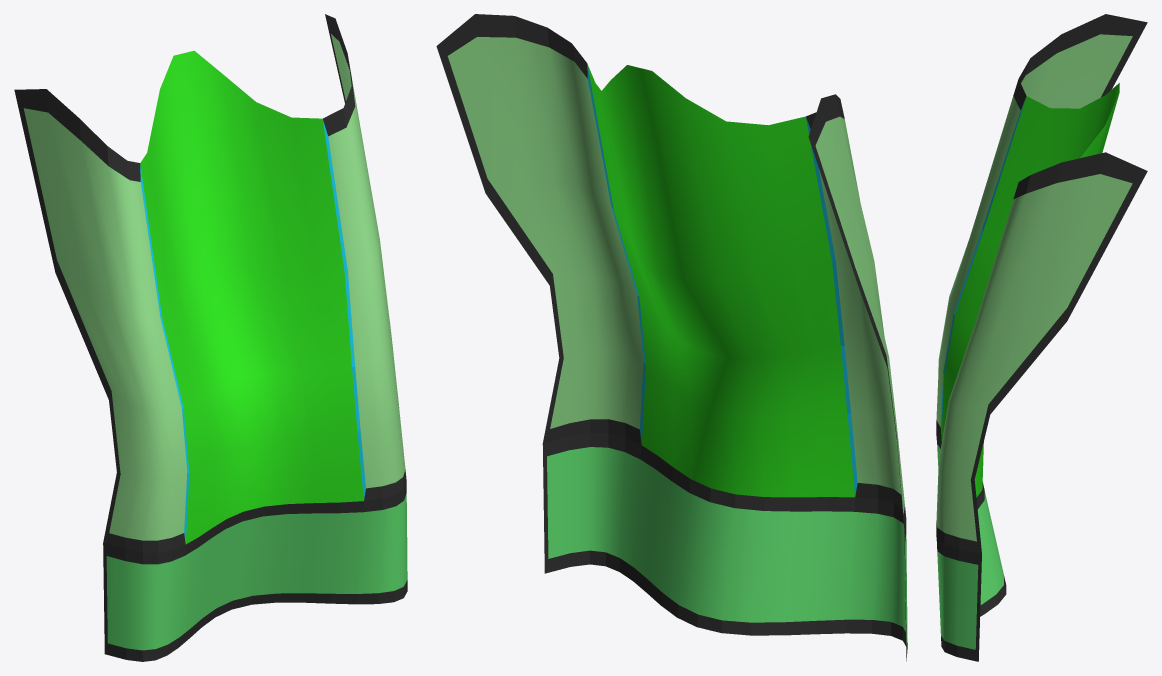
File: Progeny Arena Association Tower.FBX
3 renders of one model, left to right at view 1: azimuth 30°, elevation 25°; view 2: azimuth 150°, elevation 25°; view 3: azimuth 270°, elevation 25°, orthographic. The views are drawn at different scales.
Visible parts, largest first — view 1: Cylinder007; view 2: Cylinder007; view 3: Cylinder007.
Boxes of the visible parts, left/top/right/bottom form: Cylinder007: left=14, top=14, right=407, bottom=661; Cylinder007: left=436, top=14, right=907, bottom=661; Cylinder007: left=936, top=14, right=1147, bottom=661.
Size of the model in its own units: 5554 by 8823 by 3341.
